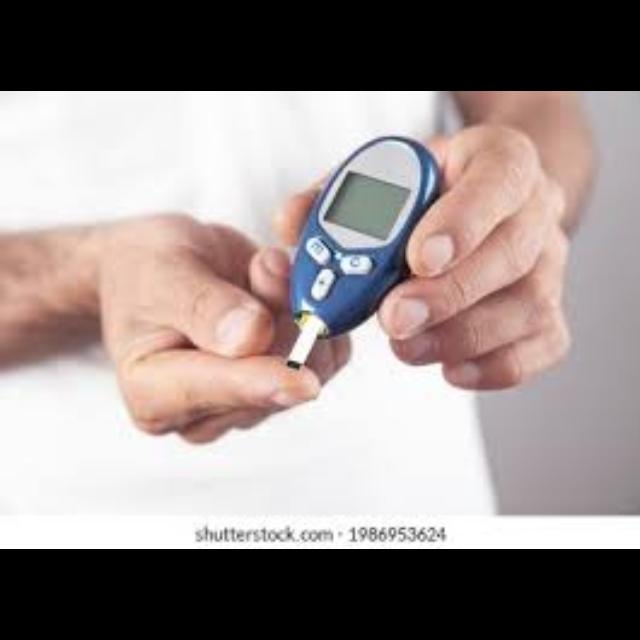Glucose-Meter: (286, 136, 440, 368)
